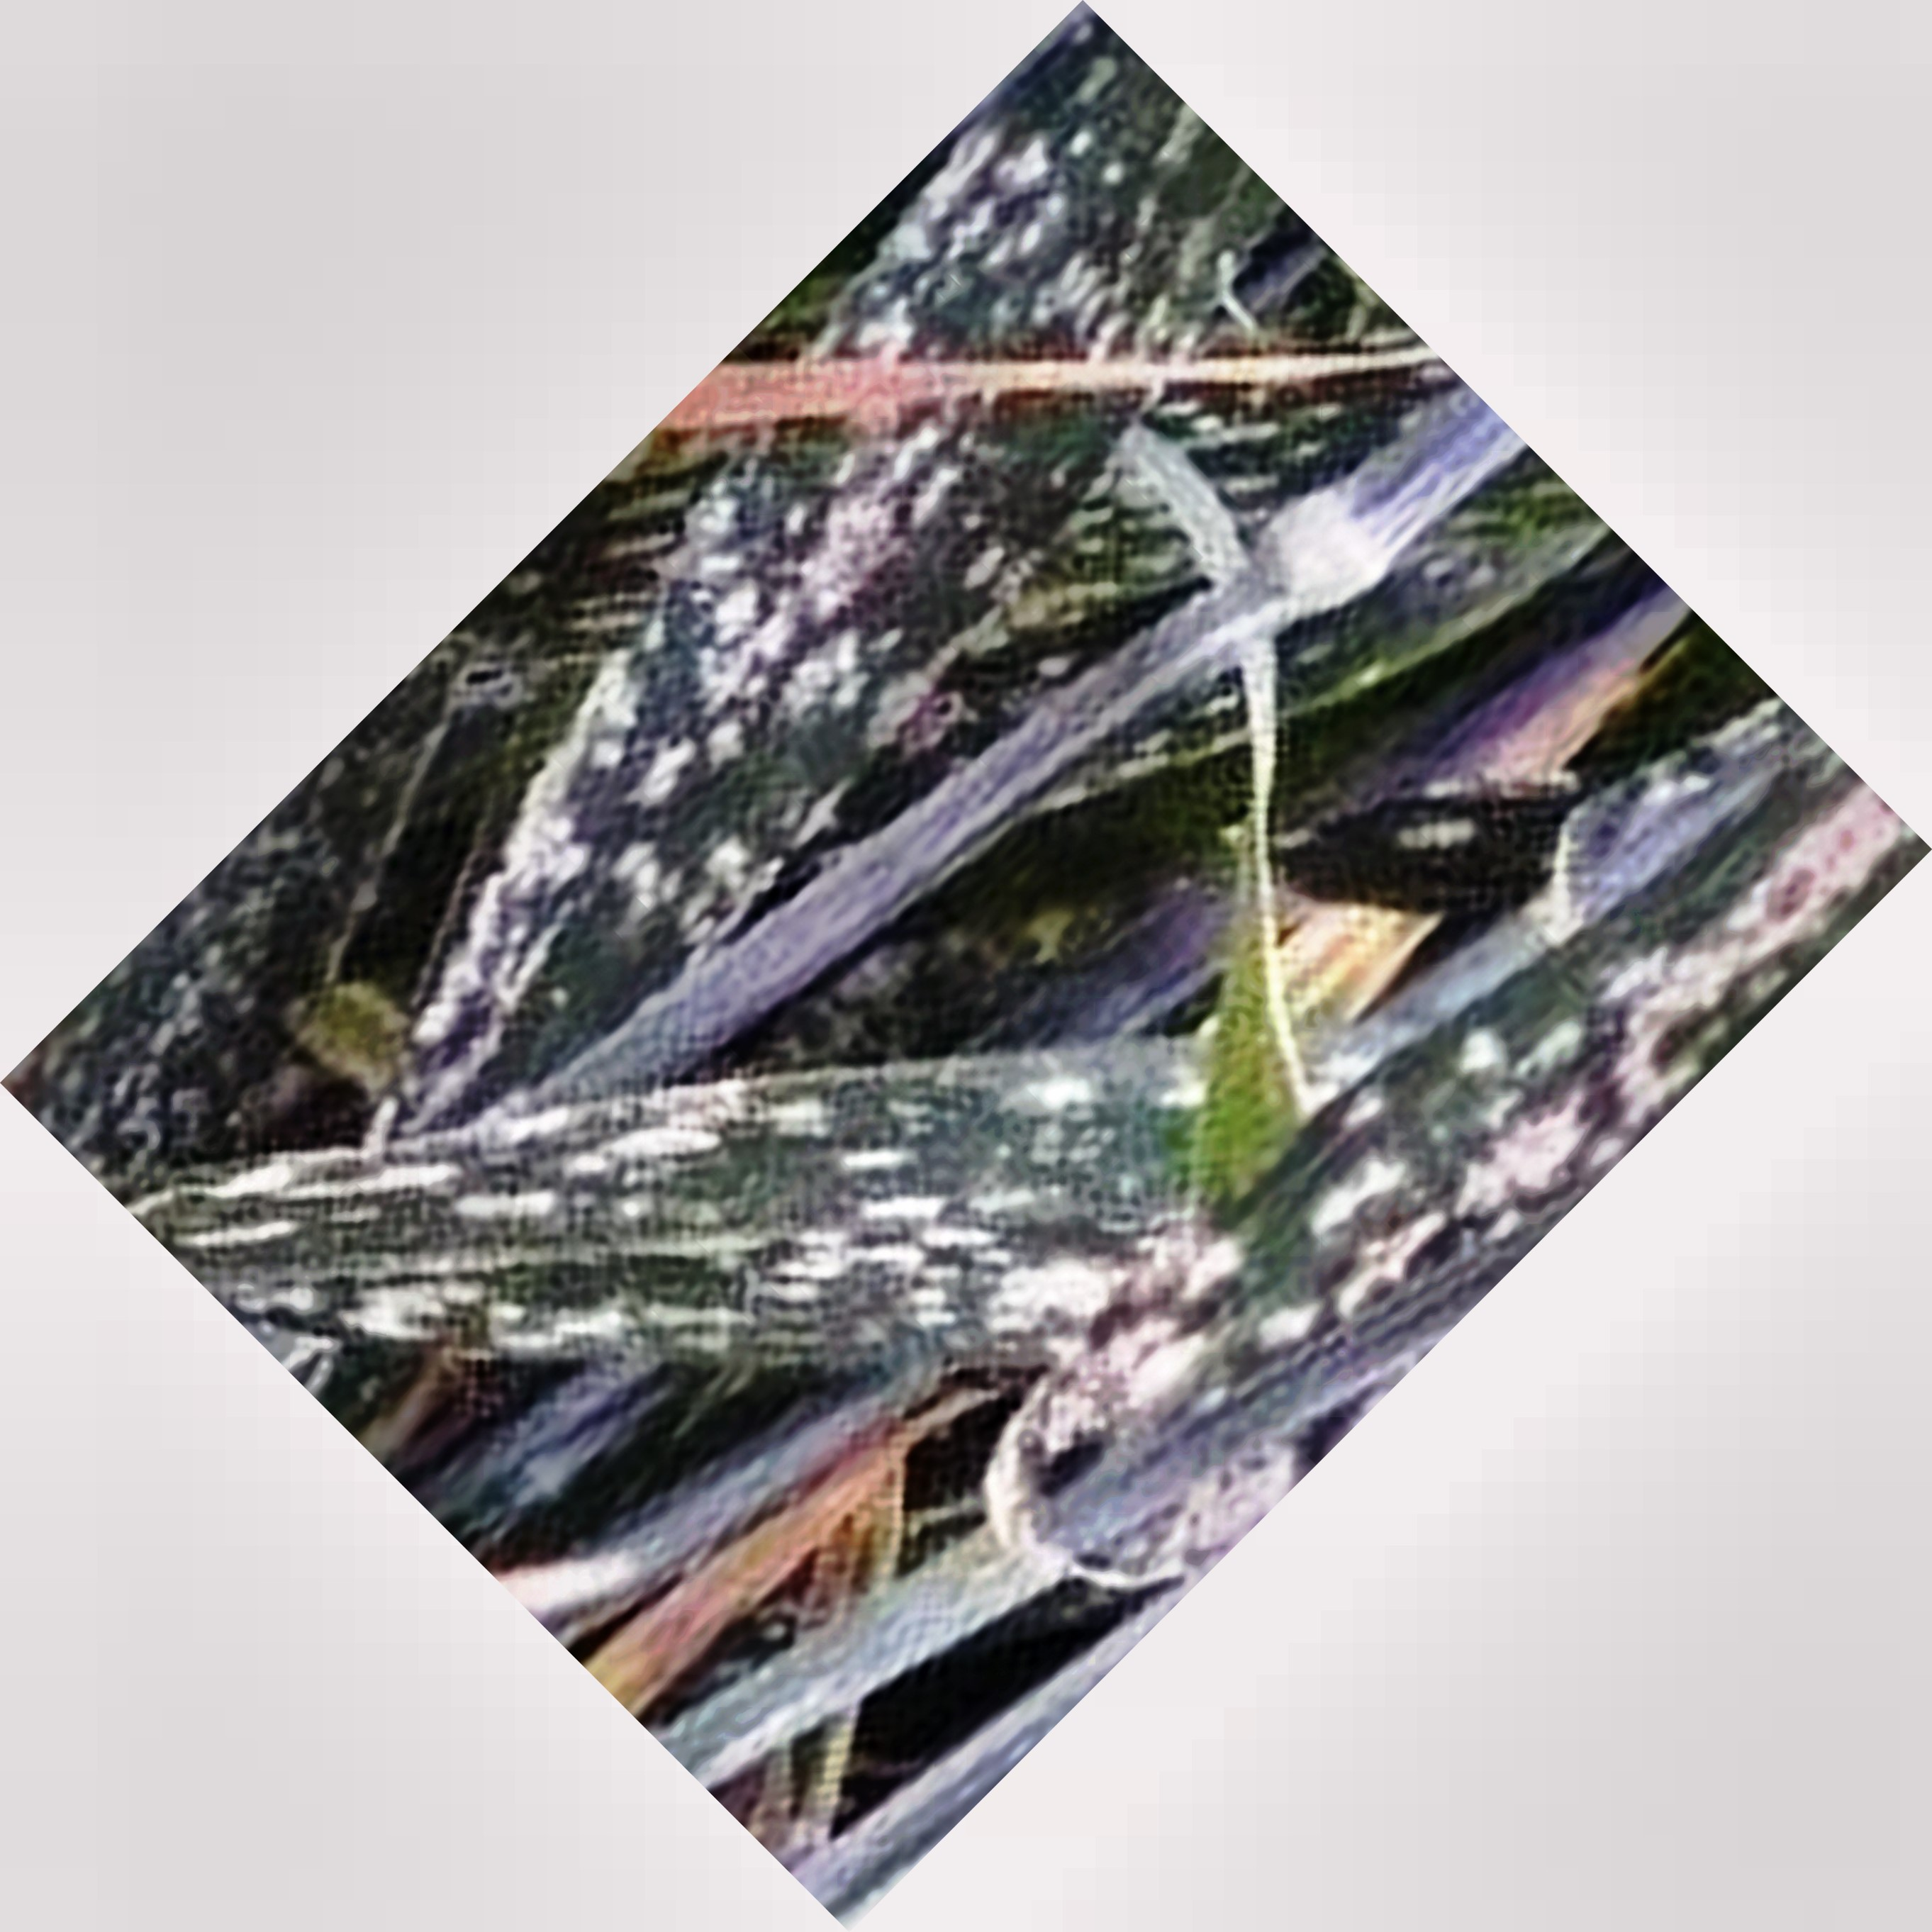Powdery Mildew: (474, 299, 1077, 1037)
